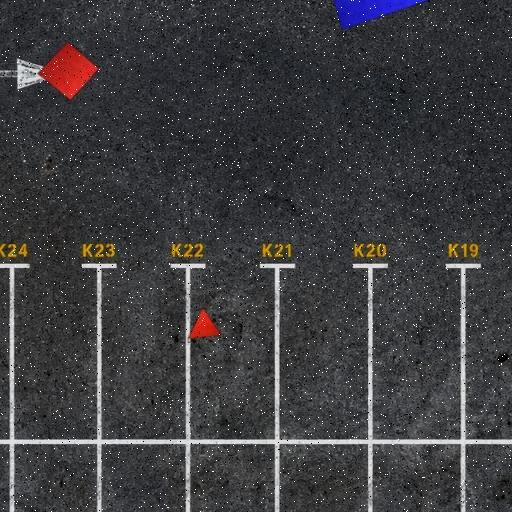RED_SQUARE: (37, 42, 99, 100)
